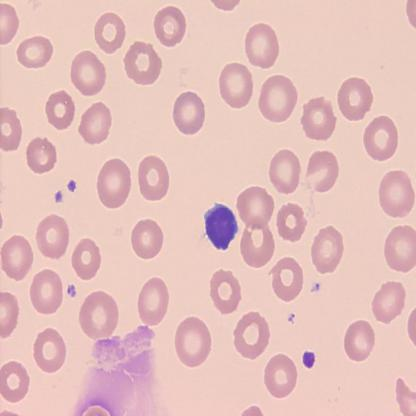Lymphocyte: (202, 201, 240, 252)
